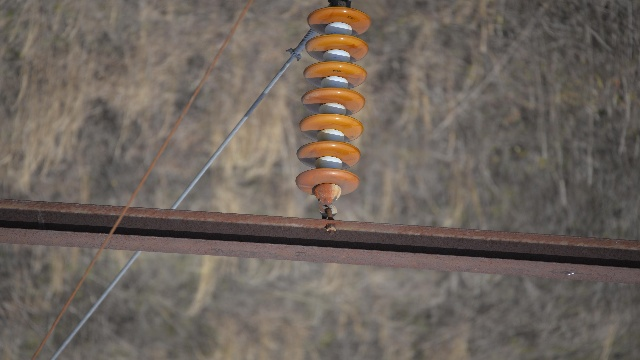insulator_unspecified: (295, 7, 371, 195)
